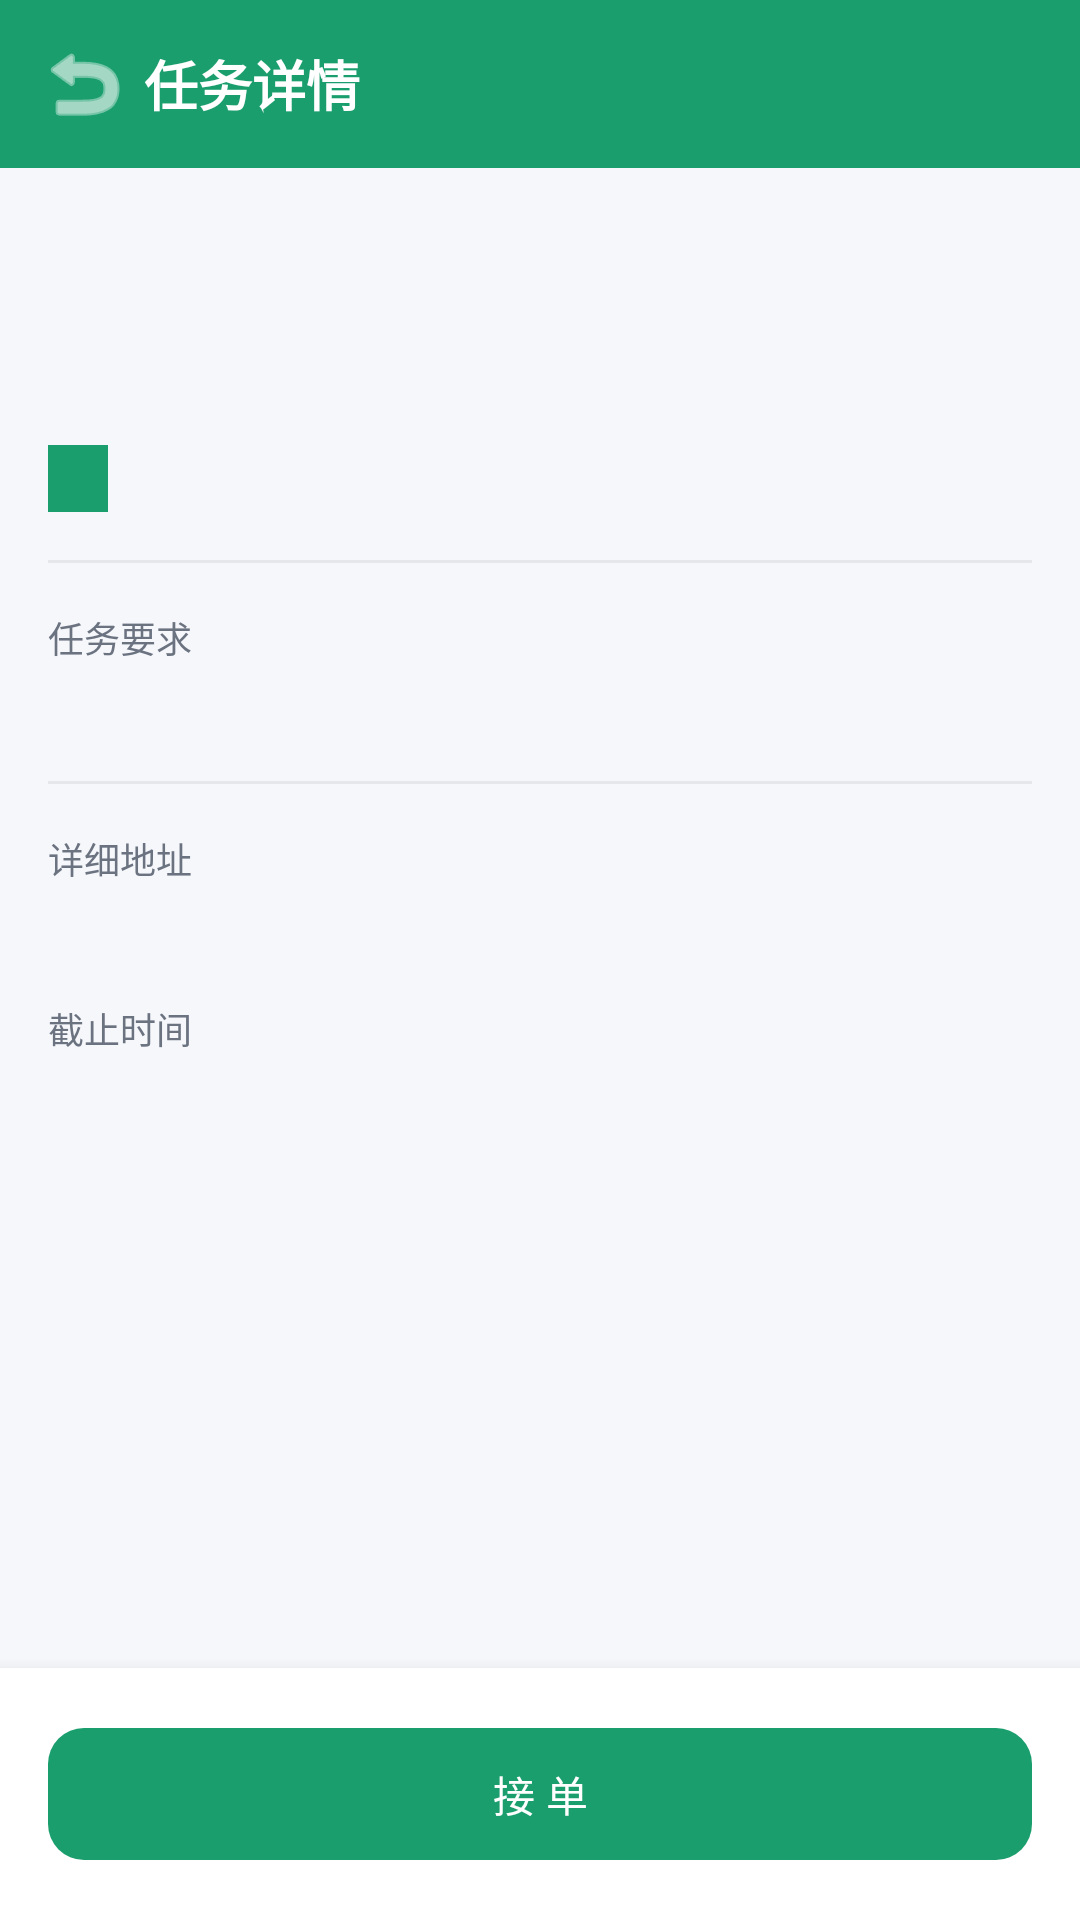

Where to tap for icons on this 1080 × 1920 app screen, as point (x, y):
返回: point (85, 84)
